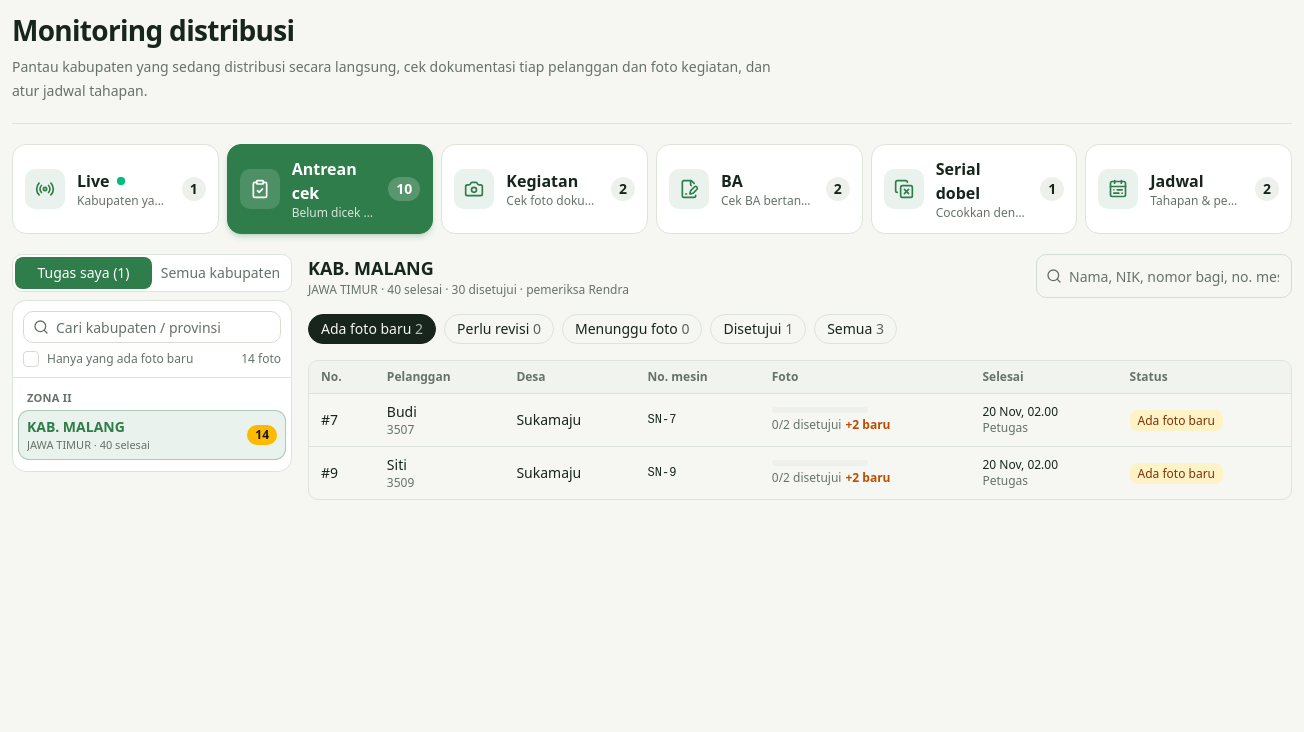
the kabupaten list can be searched and shows the photos to check
Check: the text titled "14 foto belum dicek" is shown, box x1=255 y1=426 x2=269 y2=443
Step 1. Type "tuban" into the field labelled "Cari kabupaten" → (152, 327), box x1=23 y1=311 x2=281 y2=343
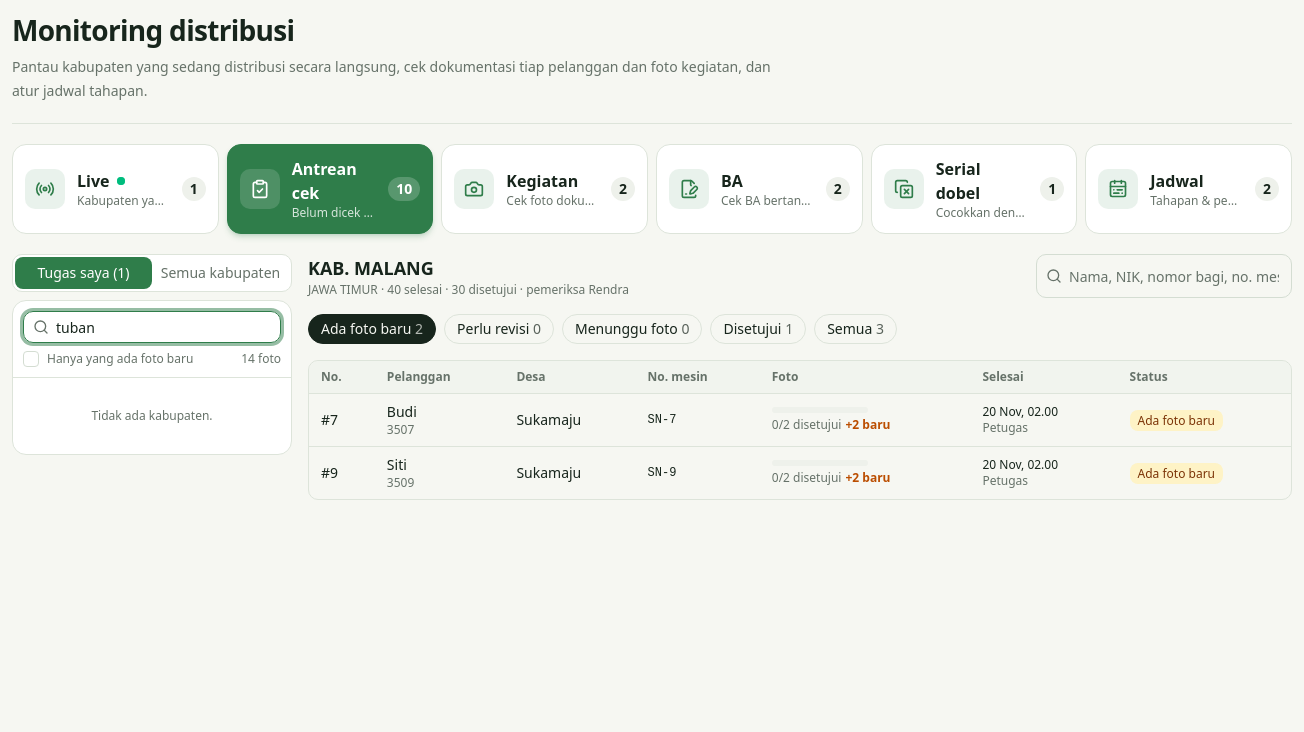
Check: the text "Tidak ada kabupaten." is shown, box x1=91 y1=407 x2=213 y2=424
